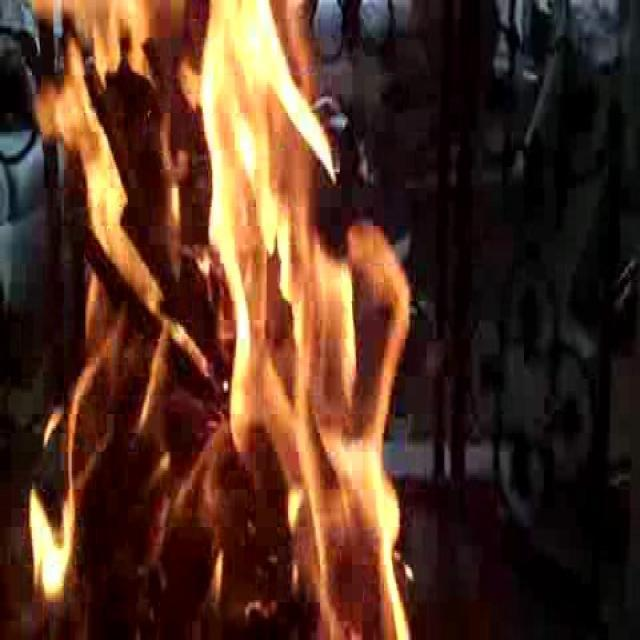Smoke: (34, 0, 404, 621)
